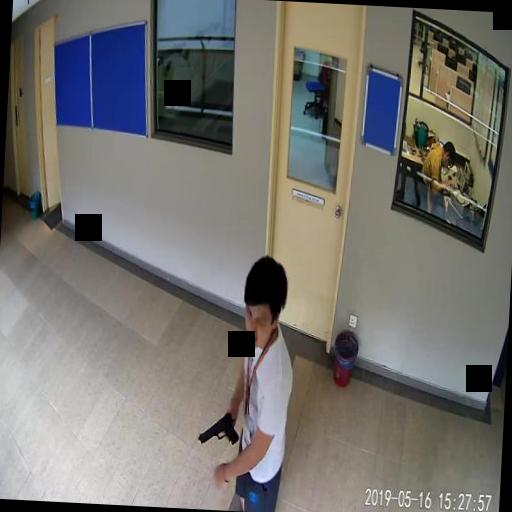Handgun: (196, 409, 239, 446)
